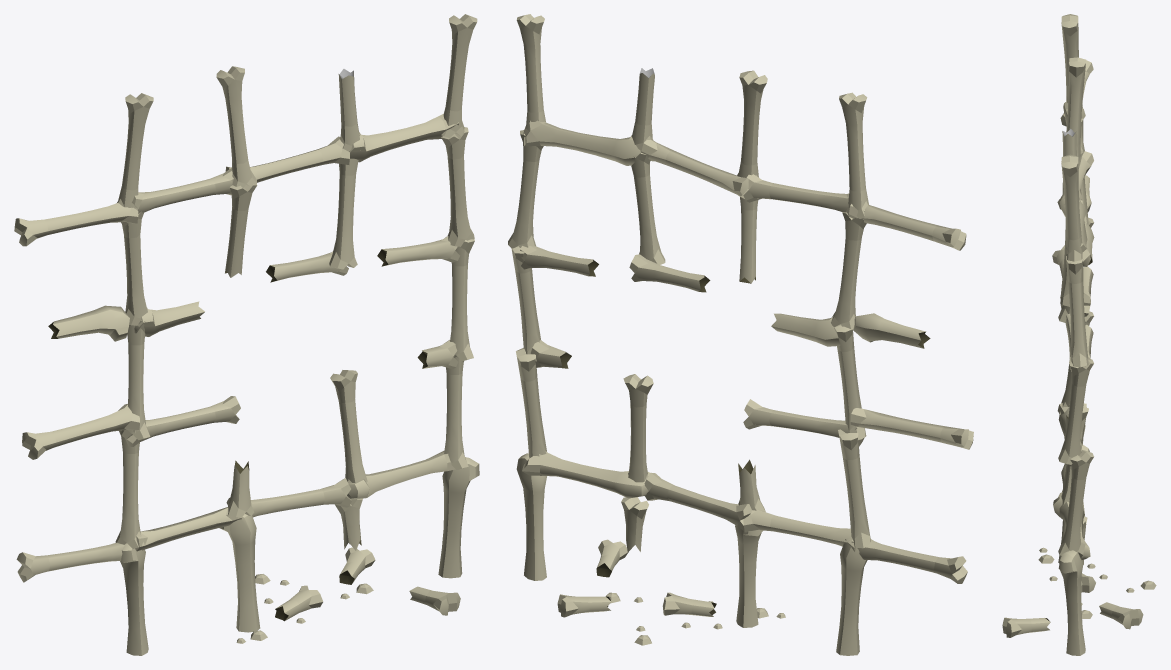
File: Huesos_E.fbx
3 renders of one model, left to right at view 1: azimuth 30°, elevation 25°; view 2: azimuth 150°, elevation 25°; view 3: azimuth 270°, elevation 25°, orthographic. The views are drawn at different scales.
Visible parts, largest first — view 1: Hueso_E; view 2: Hueso_E; view 3: Hueso_E.
Part boxes in pixels (bbox=[...]): Hueso_E: bbox=[14, 14, 479, 655]; Hueso_E: bbox=[508, 14, 973, 655]; Hueso_E: bbox=[1002, 14, 1156, 655].
Bounding box in the file's own units: 244 × 286 × 80.07.
